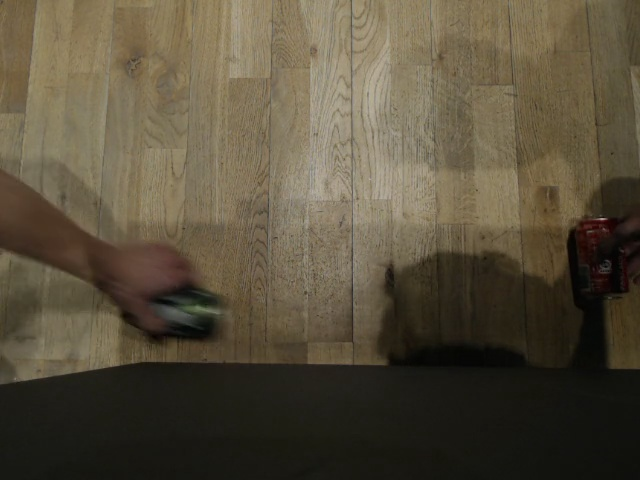beer: (136, 283, 224, 340)
cola: (573, 217, 624, 300)
